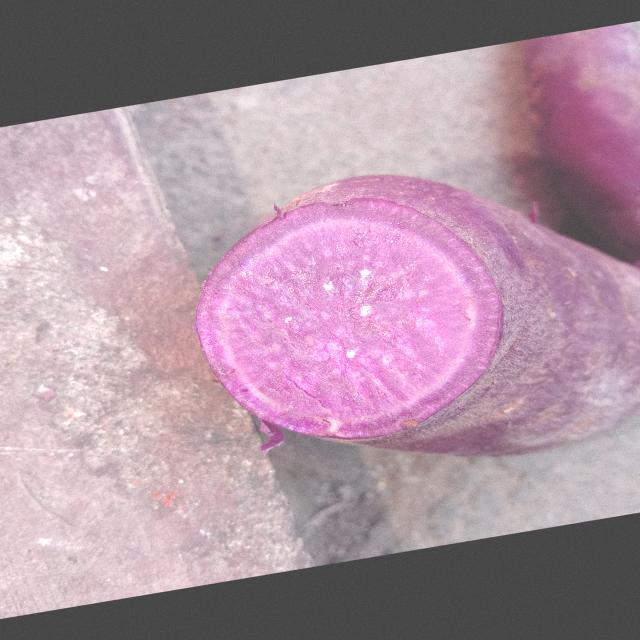Healthy Sweet Potato: (195, 199, 502, 439)
